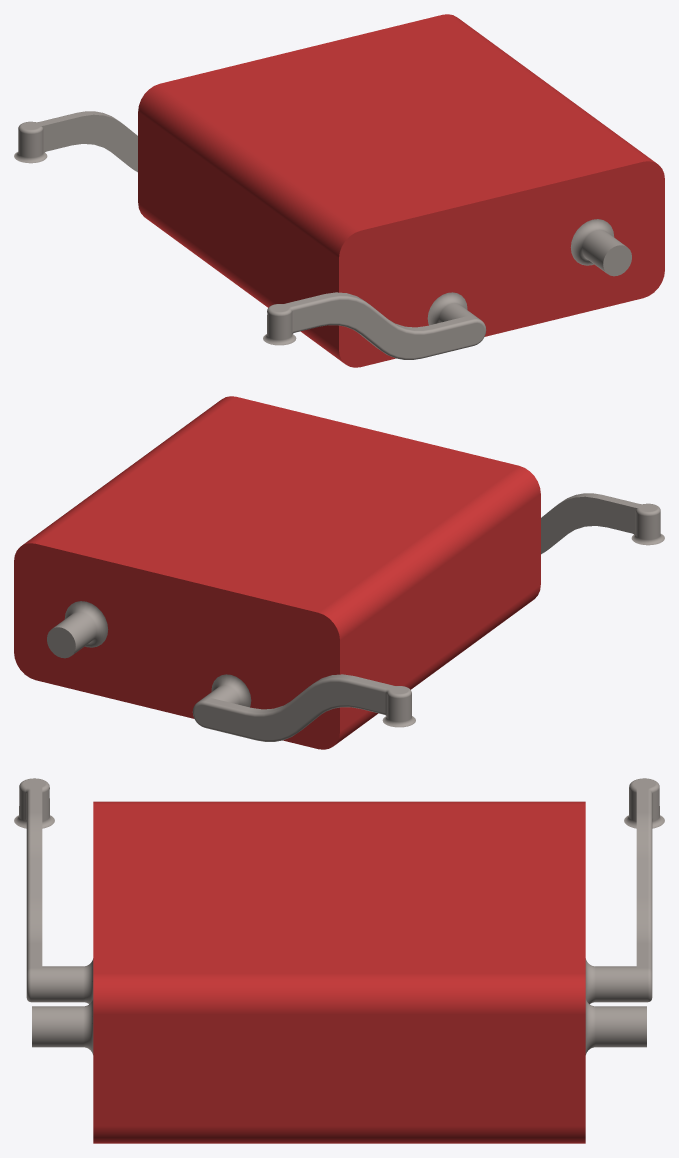
Rendered from wheelchair_base.dae.
The picture shows the model from 3 angles, top to bottom: view 1: azimuth 30°, elevation 25°; view 2: azimuth 150°, elevation 25°; view 3: azimuth 270°, elevation 25°; orthographic projection. The views are drawn at different scales.
Parts seen in each view (by area): view 1: _3DGeom_83, _3DGeom_84; view 2: _3DGeom_83, _3DGeom_84; view 3: _3DGeom_83, _3DGeom_84.
Part boxes in pixels (bbox=[...]): _3DGeom_83: bbox=[138, 14, 664, 367]; _3DGeom_84: bbox=[14, 111, 631, 359]; _3DGeom_83: bbox=[14, 396, 540, 749]; _3DGeom_84: bbox=[47, 493, 664, 741]; _3DGeom_83: bbox=[93, 801, 585, 1143]; _3DGeom_84: bbox=[14, 778, 664, 1054].
Bounding box in the file's own units: 0.585 × 0.635 × 0.18.
